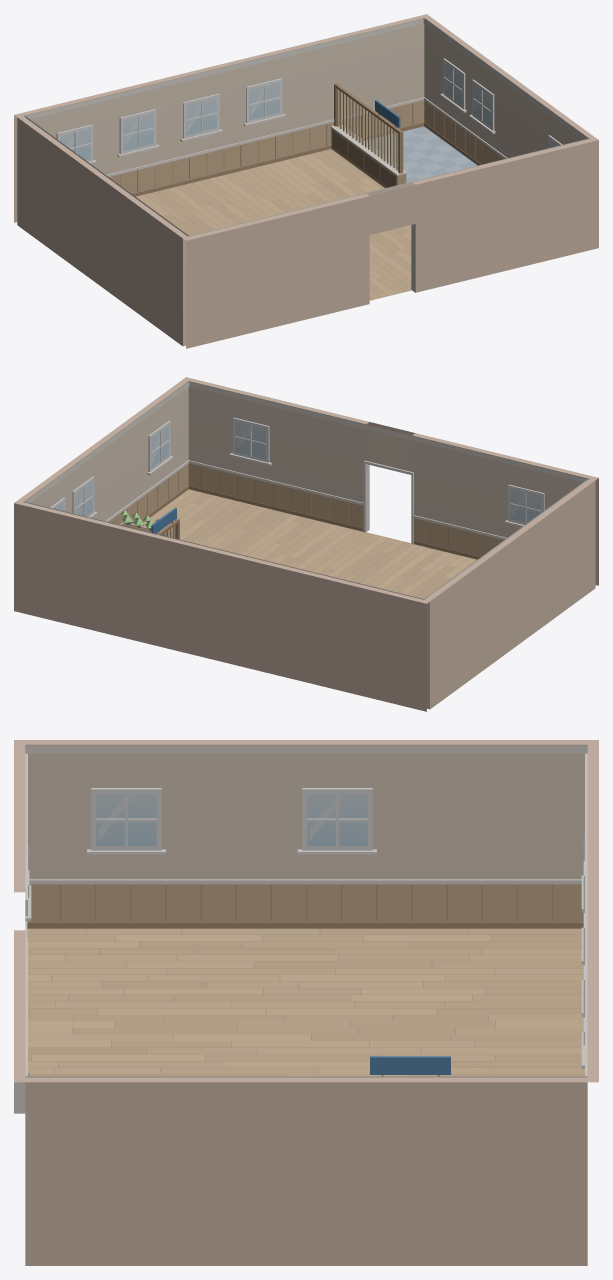
File: pss_interior_shell.glb
3 renders of one model, top to bottom at view 1: azimuth 30°, elevation 25°; view 2: azimuth 150°, elevation 25°; view 3: azimuth 270°, elevation 25°, orthographic. The views are drawn at different scales.
Parts seen in each view (by area): view 1: dinding_selatan, dinding_utara, dinding_barat, lantai, dinding_timur, sekatan_skrin; view 2: dinding_utara, dinding_selatan, dinding_barat, lantai, dinding_timur, sekatan_skrin, sekatan_pasu; view 3: dinding_timur, dinding_barat, lantai, dinding_utara, dinding_selatan, sekatan_skrin.
Part boxes in pixels (bbox=[...]): dinding_selatan: bbox=[183, 137, 598, 348]; dinding_utara: bbox=[14, 14, 429, 222]; dinding_barat: bbox=[17, 115, 188, 346]; lantai: bbox=[136, 126, 477, 300]; dinding_timur: bbox=[423, 16, 595, 165]; sekatan_skrin: bbox=[330, 83, 407, 188]; dinding_utara: bbox=[14, 500, 429, 711]; dinding_selatan: bbox=[183, 377, 598, 585]; dinding_barat: bbox=[424, 478, 595, 709]; lantai: bbox=[143, 489, 476, 598]; dinding_timur: bbox=[17, 379, 189, 524]; sekatan_skrin: bbox=[151, 508, 179, 539]; sekatan_pasu: bbox=[120, 510, 172, 536]; dinding_timur: bbox=[25, 1076, 587, 1265]; dinding_barat: bbox=[25, 740, 587, 928]; lantai: bbox=[27, 928, 584, 1076]; dinding_utara: bbox=[581, 740, 598, 1082]; dinding_selatan: bbox=[14, 740, 31, 1113]; sekatan_skrin: bbox=[370, 1056, 450, 1076].
Bounding box in the file's own units: 14.4 × 3.6 × 10.4.
